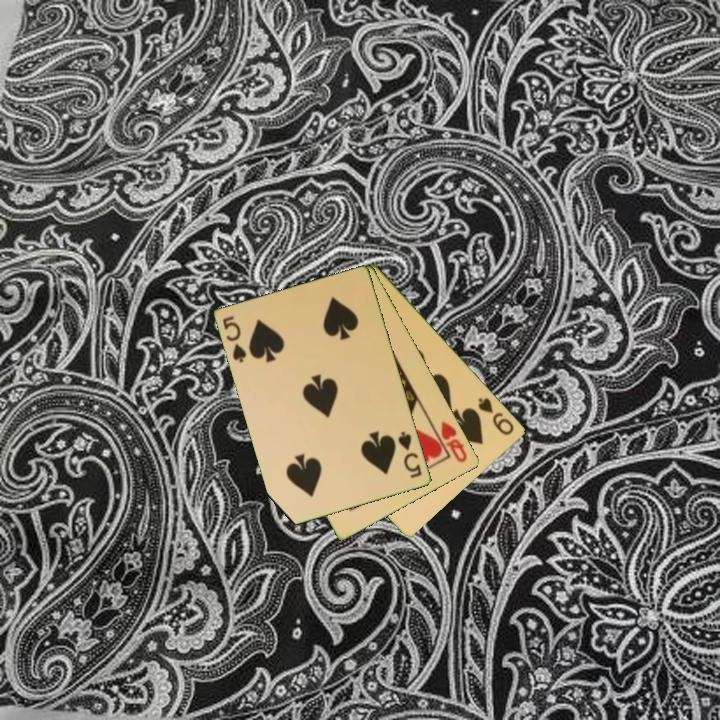5s: (219, 313, 250, 366), (395, 428, 425, 481)
9s: (475, 394, 517, 438)
Qh: (429, 418, 471, 466)
